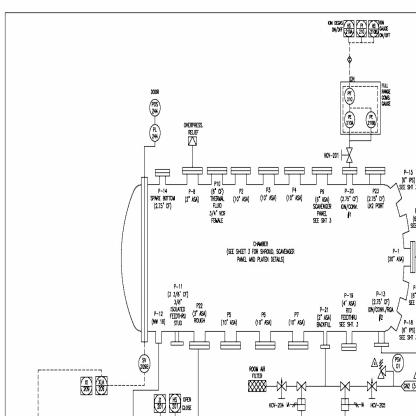LMI: (147, 123, 168, 142), (149, 95, 164, 117), (136, 353, 152, 373), (392, 353, 404, 373), (344, 88, 357, 105), (344, 111, 356, 129), (364, 111, 376, 129)
TAG: (80, 374, 93, 401), (168, 392, 182, 414), (94, 376, 108, 396), (154, 394, 166, 414), (368, 17, 379, 38), (343, 19, 355, 38), (356, 19, 367, 38)
